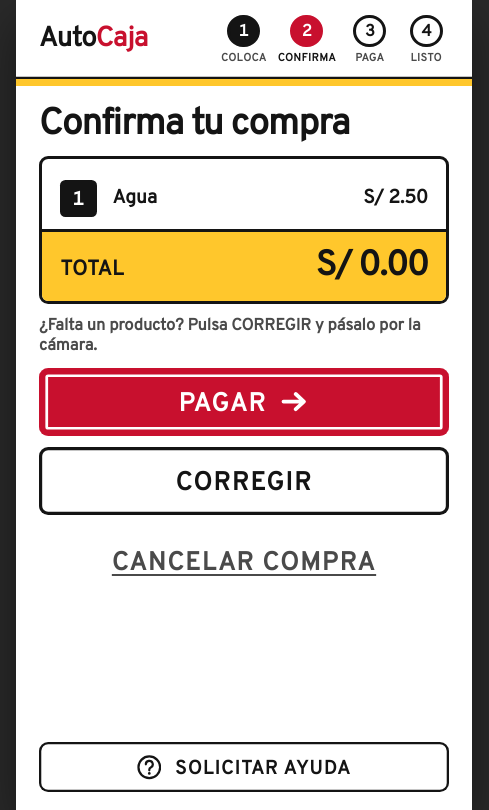
it: errores visibles › W3 muestra el error de PAGAR
Click the button "PAGAR".
click(244, 402)  # box [39, 368, 449, 436]
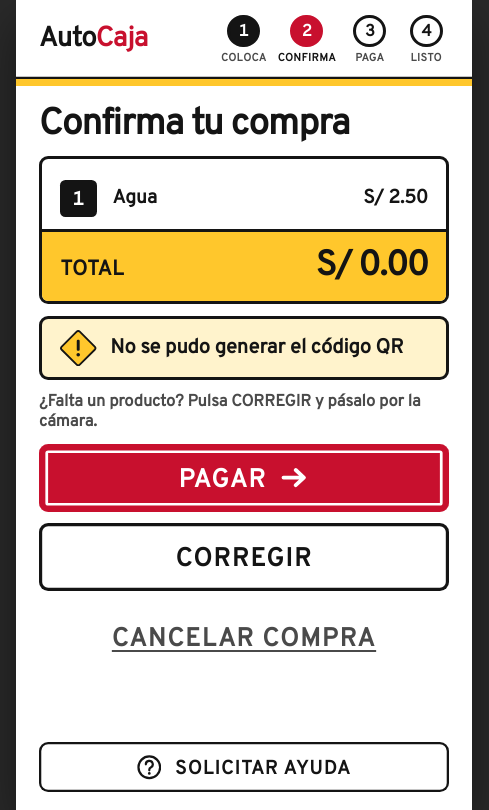
Check: the message reads "No se pudo generar el código QR", box [110, 335, 404, 361]
